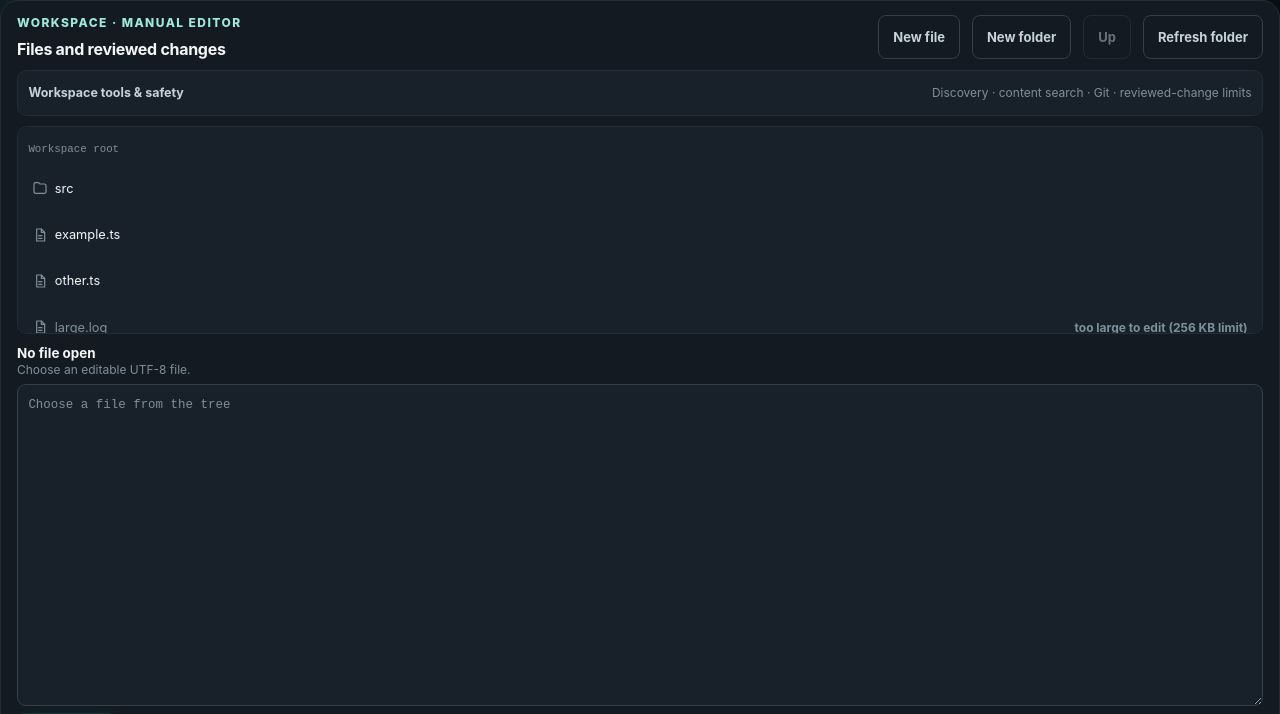
Test: workspace inspection truth › keeps the coding workbench primary while retaining discovery and safety tools on demand
The image size is (1280, 714).
Expected: the button "example.ts" is shown, [25,212,1255,256]
Expected: the text box named "Workspace file editor" is shown, [17,384,1263,706]
Click the heading "Workspace tools & safety": (106, 93) [28,85,1252,100]
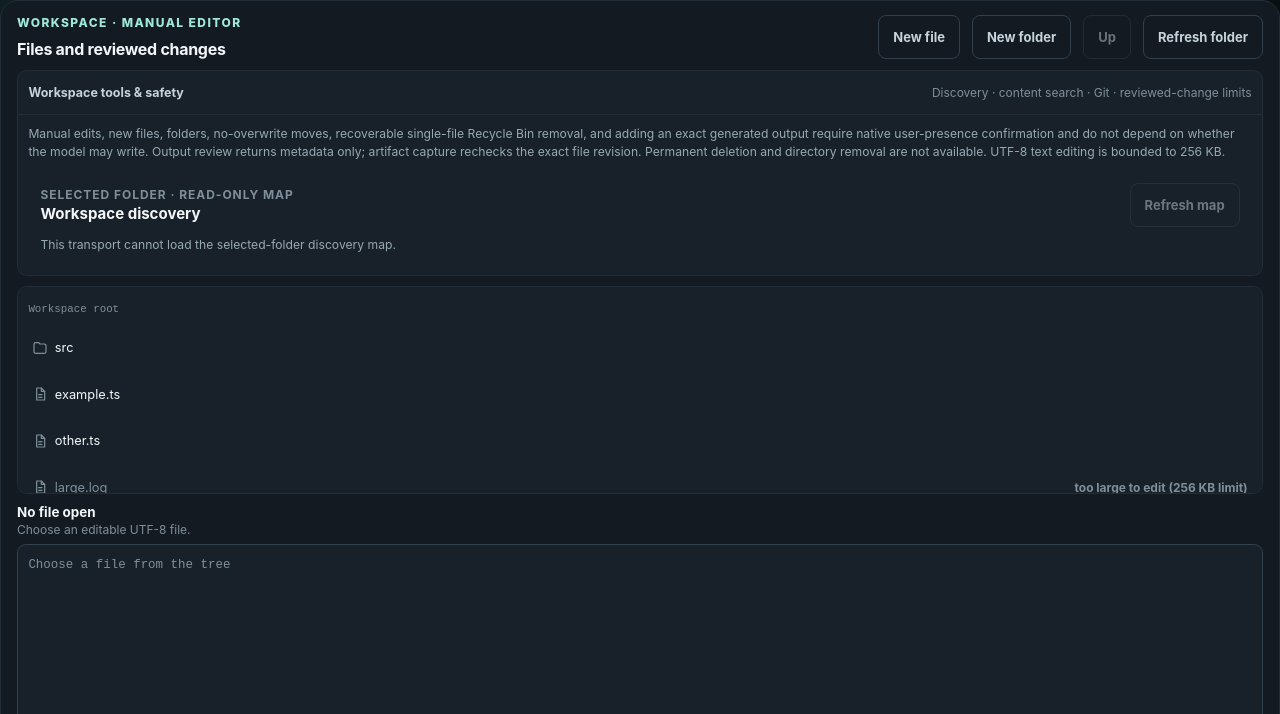
Now the element "Workspace discovery" is shown, box [28,171,1252,264]
Now the text "Permanent deletion and directory removal are not available" is shown, box [28,126,1234,159]
